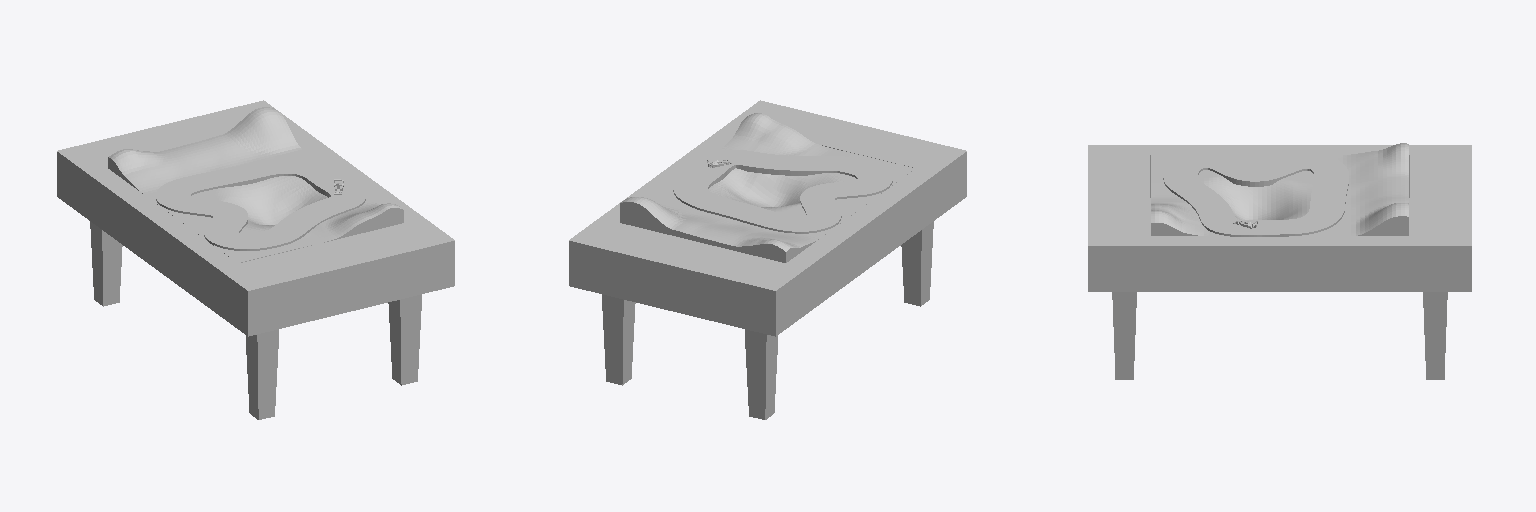
The model's file is NewestTisch29.obj.
3 renders of one model, left to right at view 1: azimuth 30°, elevation 25°; view 2: azimuth 150°, elevation 25°; view 3: azimuth 270°, elevation 25°, orthographic.
Parts seen in each view (by area): view 1: Tischplatte_wood_table_001, Landschaft_aerial_grass_rock, off, Bein1_wood_table_001, Bein4_wood_table_001.003, Bein3_wood_table_001.002; view 2: Tischplatte_wood_table_001, Landschaft_aerial_grass_rock, off, Bein2_wood_table_001.001, Bein3_wood_table_001.002, Bein4_wood_table_001.003; view 3: Tischplatte_wood_table_001, Landschaft_aerial_grass_rock, off, Bein1_wood_table_001, Bein2_wood_table_001.001.
Part boxes in pixels (left/top/right/bottom): Tischplatte_wood_table_001: left=57, top=100, right=454, bottom=336; Landschaft_aerial_grass_rock: left=108, top=107, right=403, bottom=262; off: left=156, top=159, right=365, bottom=250; Bein1_wood_table_001: left=388, top=294, right=421, bottom=385; Bein4_wood_table_001.003: left=246, top=329, right=278, bottom=419; Bein3_wood_table_001.002: left=90, top=221, right=122, bottom=306; Tischplatte_wood_table_001: left=569, top=100, right=966, bottom=336; Landschaft_aerial_grass_rock: left=620, top=113, right=915, bottom=262; off: left=673, top=150, right=892, bottom=233; Bein2_wood_table_001.001: left=602, top=294, right=635, bottom=385; Bein3_wood_table_001.002: left=745, top=329, right=777, bottom=419; Bein4_wood_table_001.003: left=901, top=221, right=933, bottom=306; Tischplatte_wood_table_001: left=1088, top=145, right=1471, bottom=291; Landschaft_aerial_grass_rock: left=1151, top=143, right=1408, bottom=235; off: left=1163, top=153, right=1348, bottom=236; Bein1_wood_table_001: left=1112, top=292, right=1136, bottom=379; Bein2_wood_table_001.001: left=1423, top=292, right=1447, bottom=379.
Size of the model in its own units: 5 by 3.91 by 8.